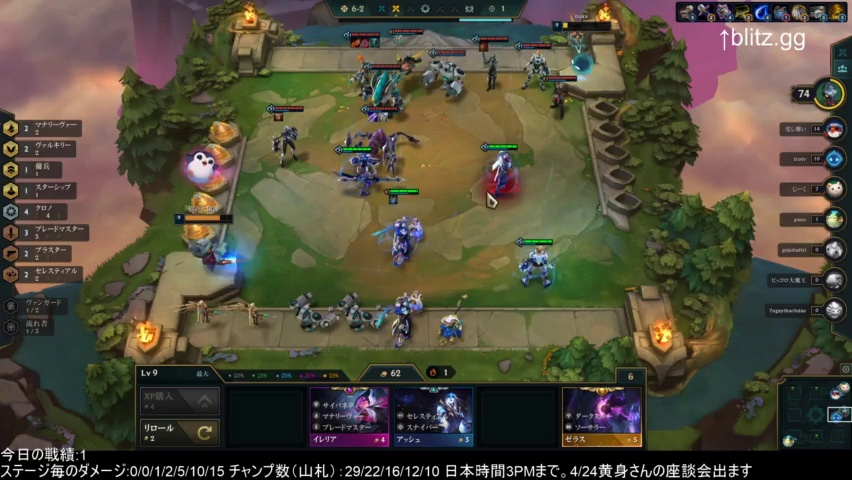vi*2:bramble: (263, 100, 309, 168)
